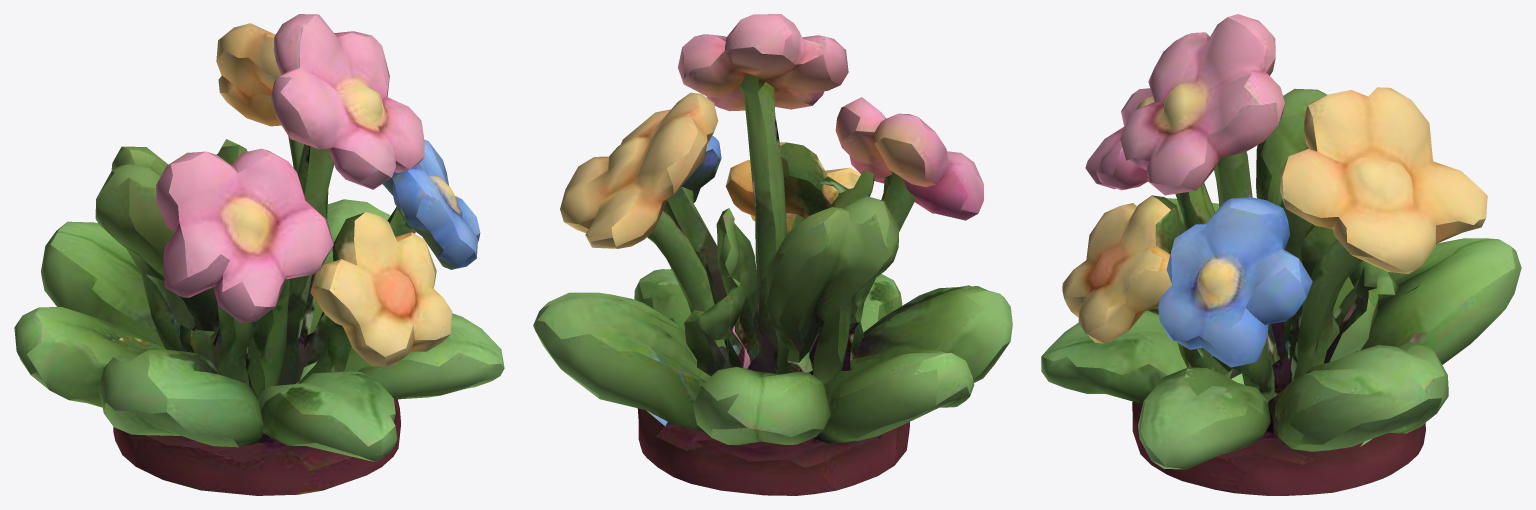
The model's file is flowers.glb.
3 renders of one model, left to right at view 1: azimuth 30°, elevation 25°; view 2: azimuth 150°, elevation 25°; view 3: azimuth 270°, elevation 25°, orthographic. The views are drawn at different scales.
Visible parts, largest first — view 1: flowers_s15; view 2: flowers_s15; view 3: flowers_s15.
Boxes of the visible parts, <box> form: flowers_s15: <box>14,14,504,495</box>; flowers_s15: <box>533,14,1012,495</box>; flowers_s15: <box>1041,14,1521,495</box>.
Size of the model in its own units: 1 by 0.968 by 0.9808.
1 material, 1 textured.
